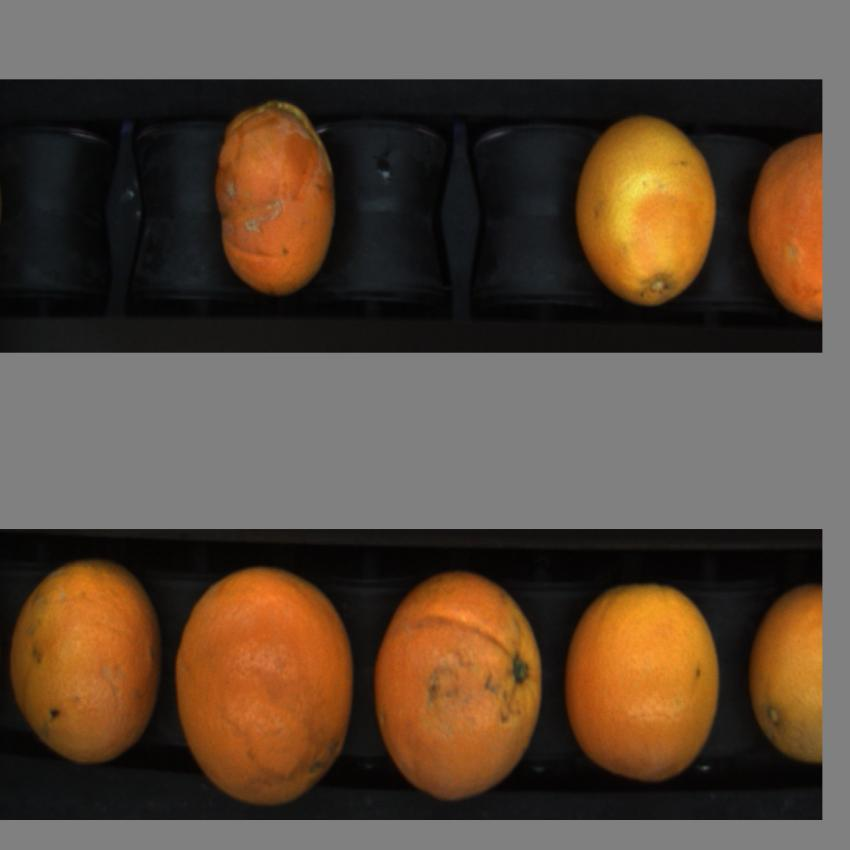Buen estado: (371, 567, 547, 806), (564, 571, 725, 787), (8, 557, 164, 774), (573, 108, 724, 310), (746, 577, 822, 771)
Mal estado: (170, 566, 358, 808), (210, 96, 342, 304), (750, 125, 821, 322)
